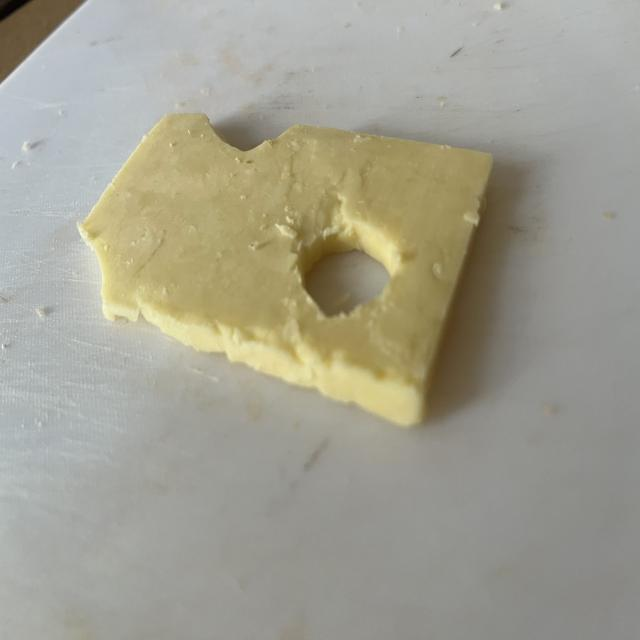cheese: (80, 114, 492, 425)
